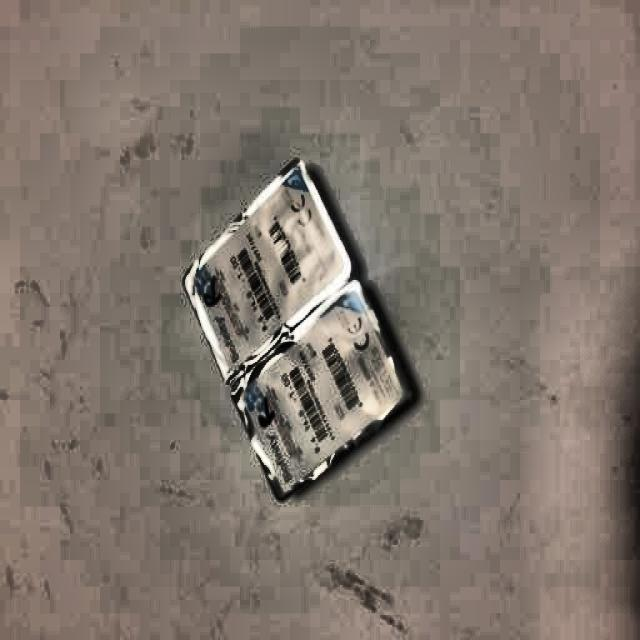trash: (181, 156, 413, 489)
